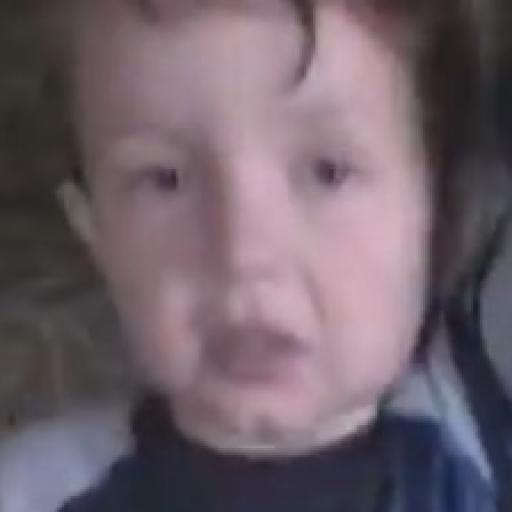Autism: (48, 9, 509, 394)
